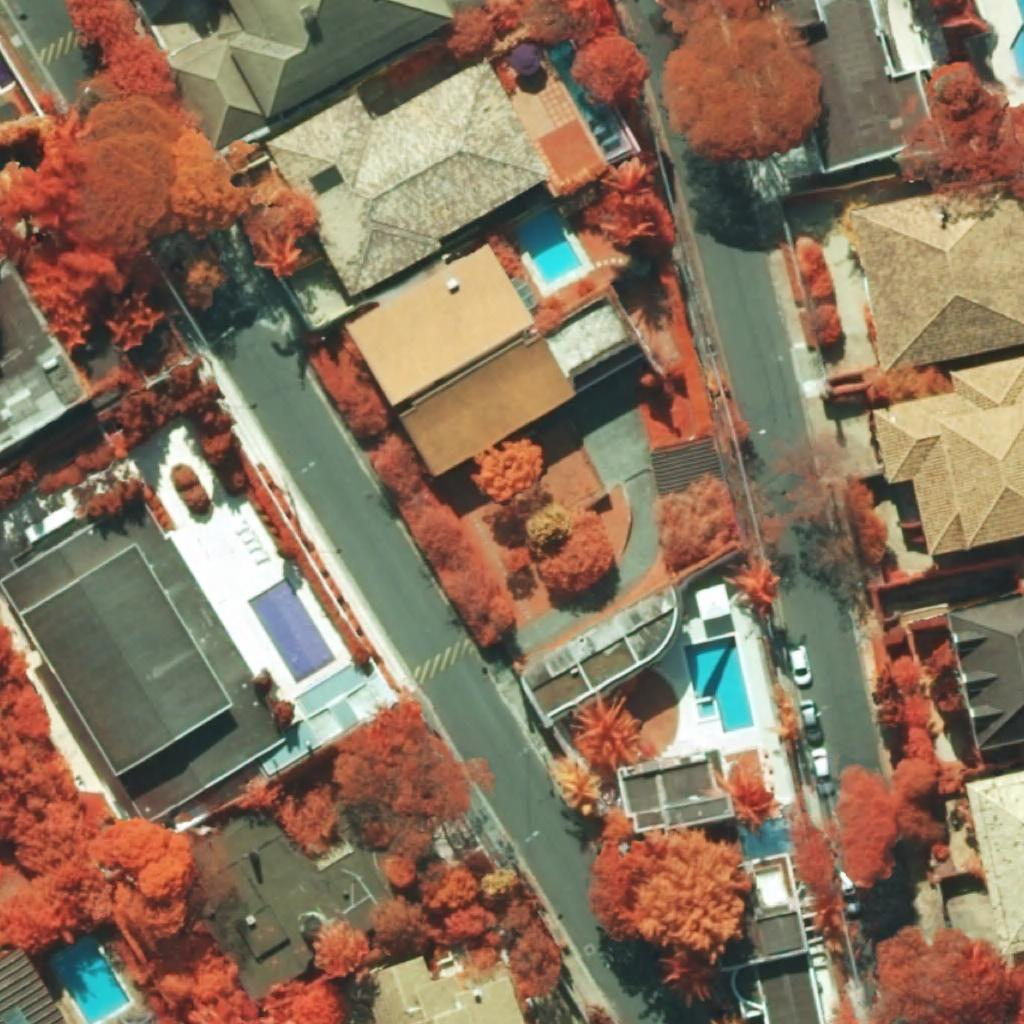pool: (247, 577, 337, 684), (47, 938, 130, 1024), (683, 636, 754, 734), (513, 207, 582, 285), (548, 39, 595, 122)
